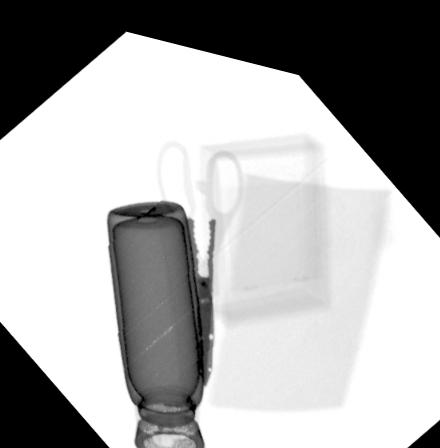Scissors: (155, 139, 244, 375)
